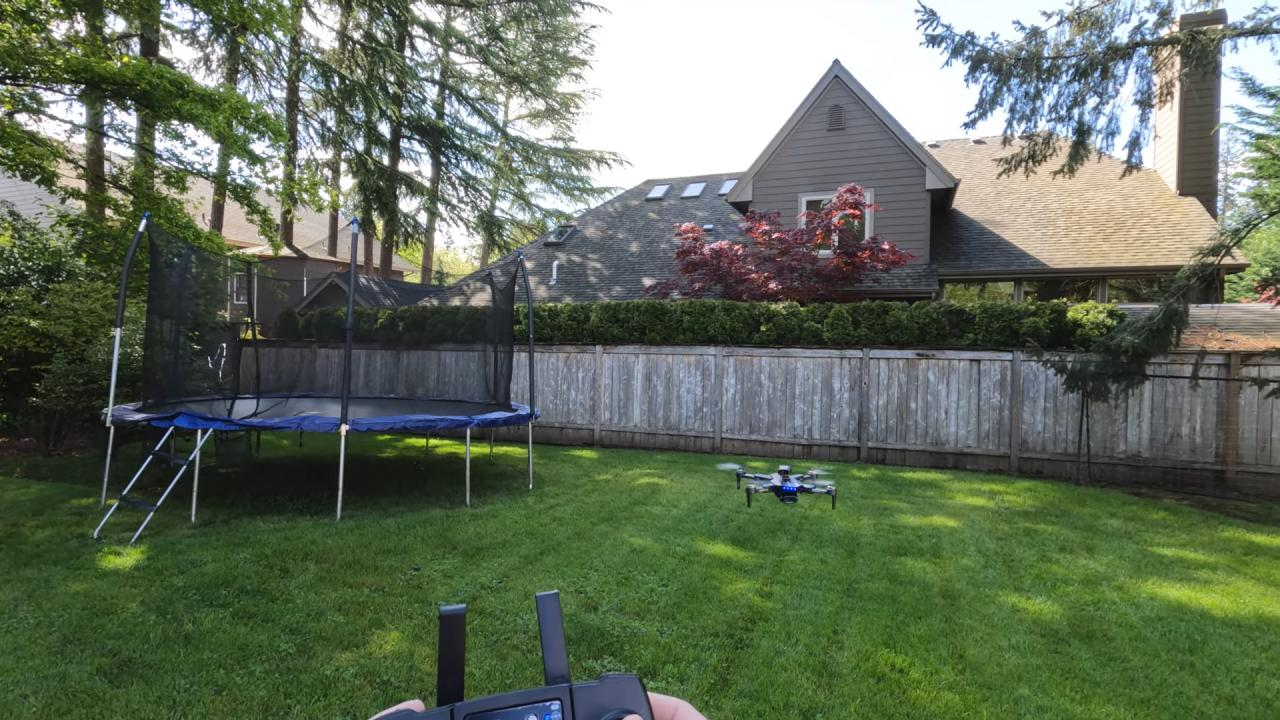Drone: (703, 450, 855, 523)
